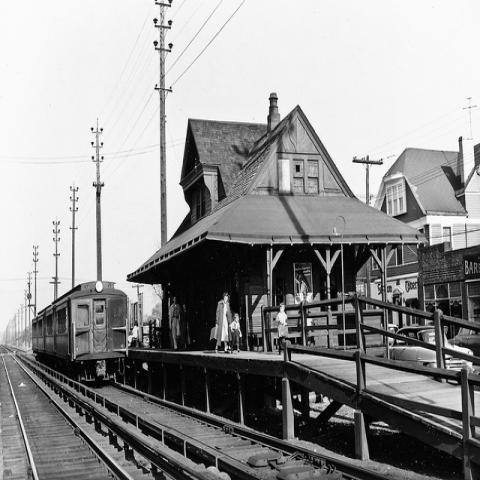car: (389, 326, 473, 372), (446, 324, 480, 346), (388, 323, 400, 346)
